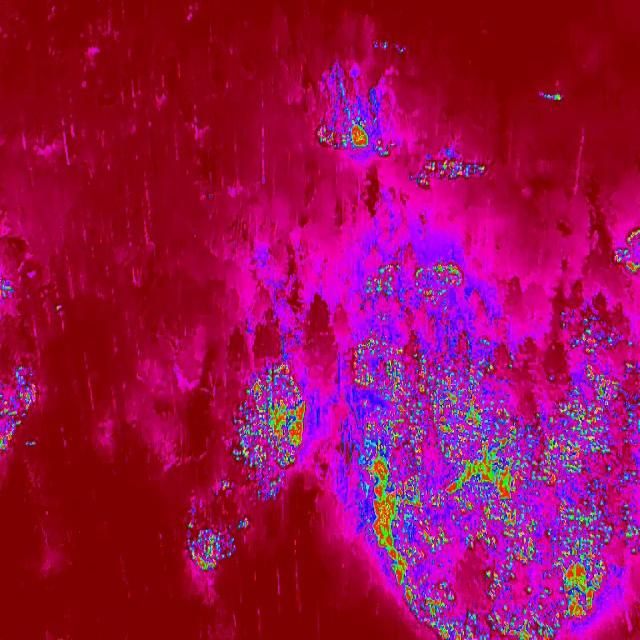fire: (361, 500, 640, 640), (346, 336, 556, 500), (230, 366, 315, 502), (310, 66, 398, 166), (558, 306, 640, 406), (556, 406, 640, 500), (353, 253, 470, 313), (0, 362, 50, 463), (184, 505, 250, 574), (407, 148, 497, 198), (614, 222, 640, 282), (371, 37, 409, 57), (536, 85, 568, 106), (0, 272, 14, 306), (217, 476, 233, 496)
